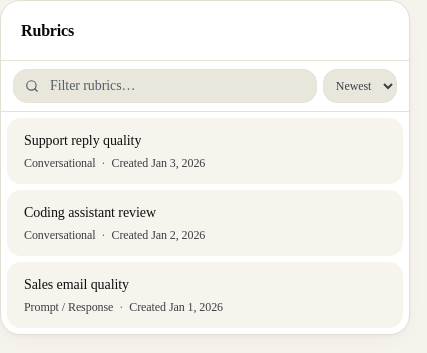
RubricsPanel – name filter › is case-insensitive
Type "CODING" into the field named "filter rubrics by name". click: x=165, y=86
box: [13,69,317,103]
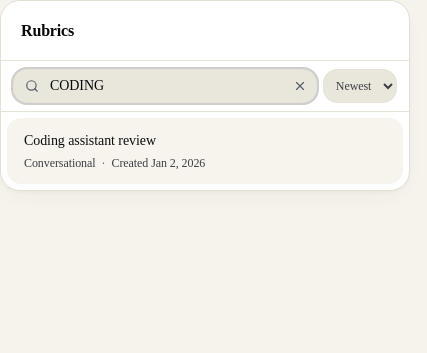
Expected: the text "Coding assistant review" is shown, [24,131,156,151]
Expected: the button "Support reply quality" is gone
